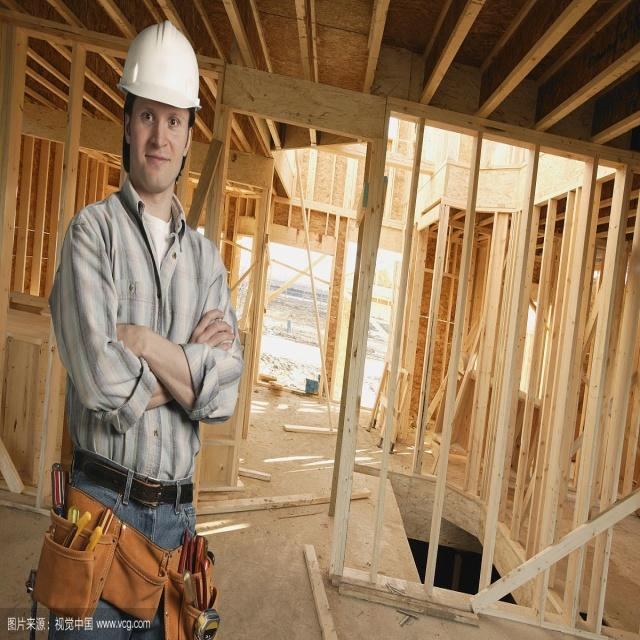helmet: (111, 24, 203, 261)
